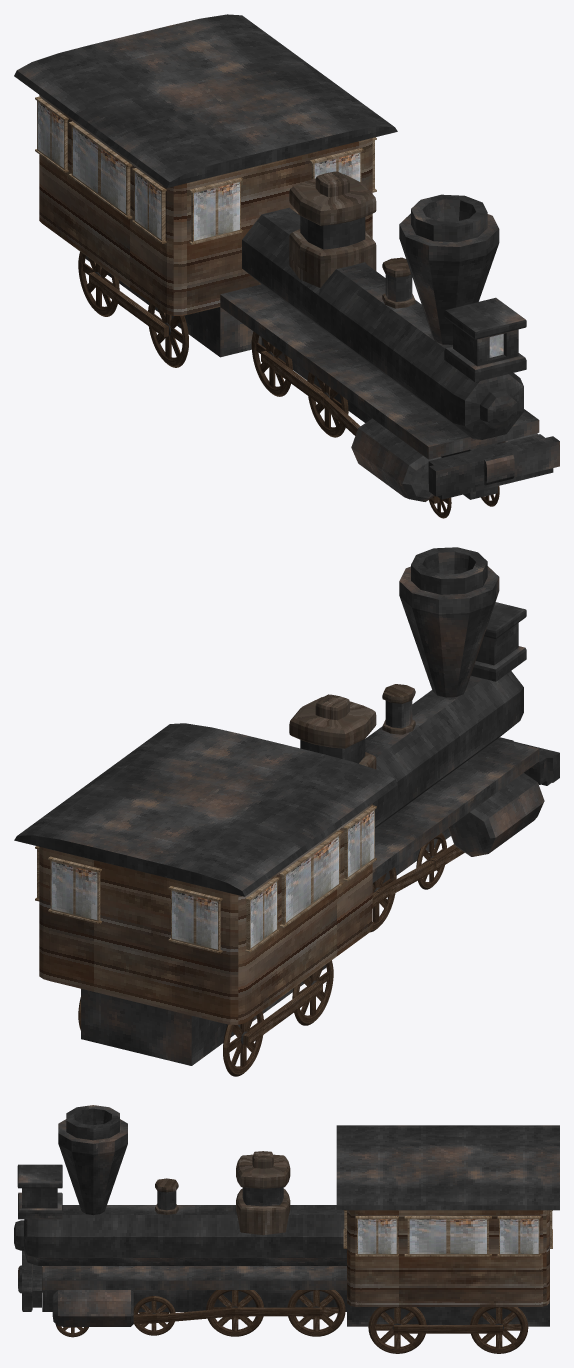
Rendered from Train_Front.fbx.
The picture shows the model from 3 angles, top to bottom: view 1: azimuth 30°, elevation 25°; view 2: azimuth 150°, elevation 25°; view 3: azimuth 270°, elevation 25°; orthographic projection. The views are drawn at different scales.
Visible parts, largest first — view 1: Train_Front; view 2: Train_Front; view 3: Train_Front.
Part boxes in pixels (<box>): Train_Front: <box>14,14,559,518</box>; Train_Front: <box>14,547,559,1076</box>; Train_Front: <box>14,1105,559,1353</box>.
Size of the model in its own units: 480 by 576 by 1345.
